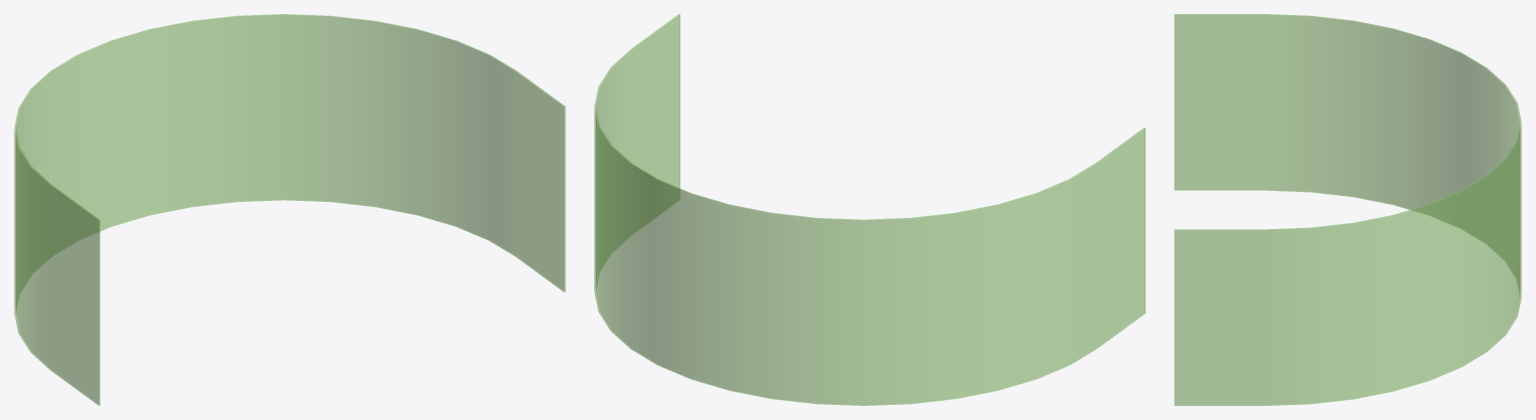
3 views of the same model, side by side, from view 1: azimuth 30°, elevation 25°; view 2: azimuth 150°, elevation 25°; view 3: azimuth 270°, elevation 25° (orthographic). The views are drawn at different scales.
Parts seen in each view (by area): view 1: id2; view 2: id2; view 3: id2.
Boxes of the visible parts, <box> form: id2: <box>14,14,565,405</box>; id2: <box>594,14,1145,405</box>; id2: <box>1174,14,1521,405</box>.
Bounding box in the file's own units: 0.9525 × 0.3619 × 0.6477.
